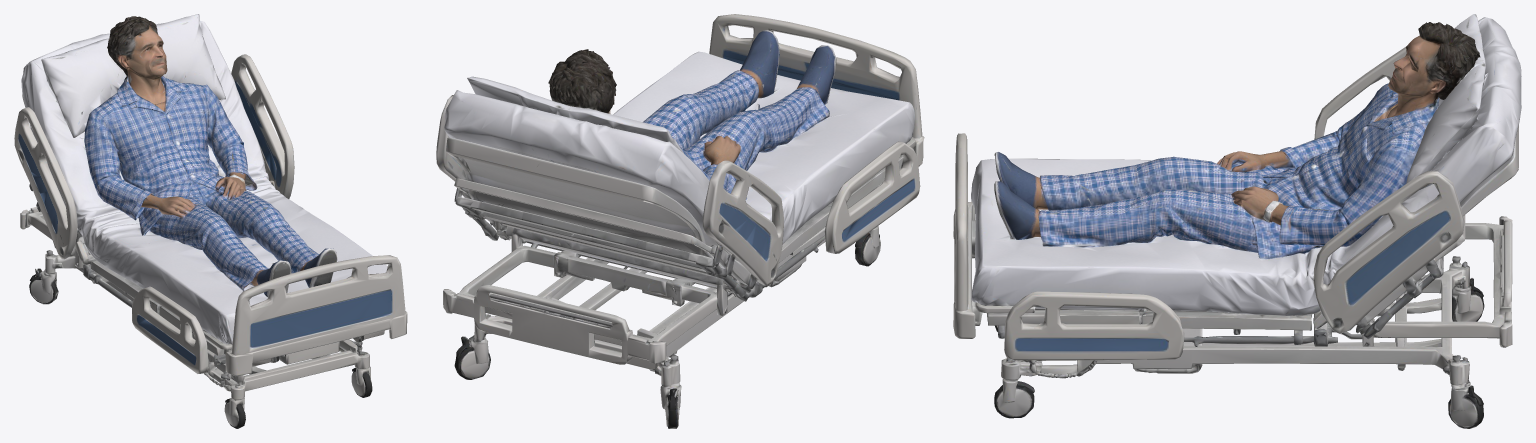
3 renders of one model, left to right at view 1: azimuth 30°, elevation 25°; view 2: azimuth 150°, elevation 25°; view 3: azimuth 270°, elevation 25°, orthographic. The views are drawn at different scales.
Parts seen in each view (by area): view 1: m3; view 2: m3; view 3: m3.
Part boxes in pixels (x1,y1,x2,y2): m3: (14,14,407,428); m3: (436,14,924,428); m3: (953,14,1521,428).
Size of the model in its own units: 1.14 by 1.31 by 1.9.
1 material, 1 textured.
